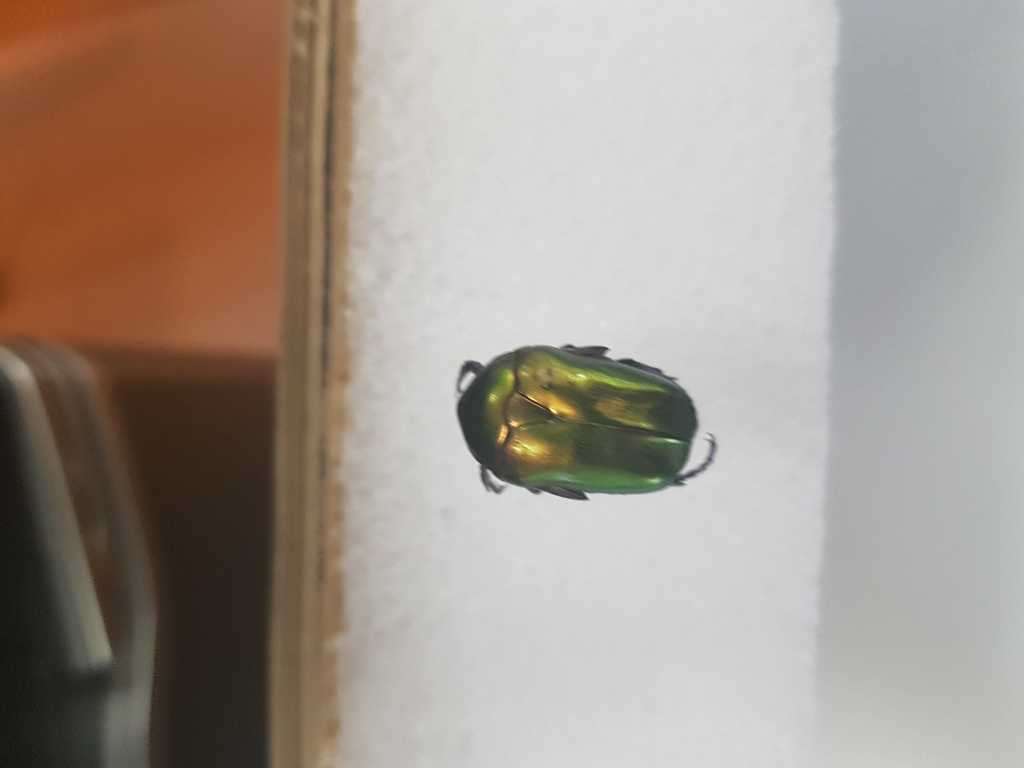Protaetia_cuprea_ignicollis: (449, 337, 731, 510)
